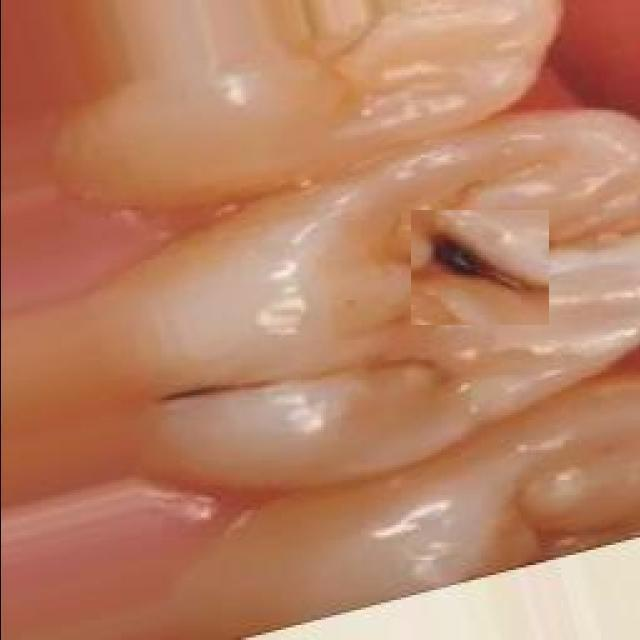caries: (410, 210, 548, 325)
